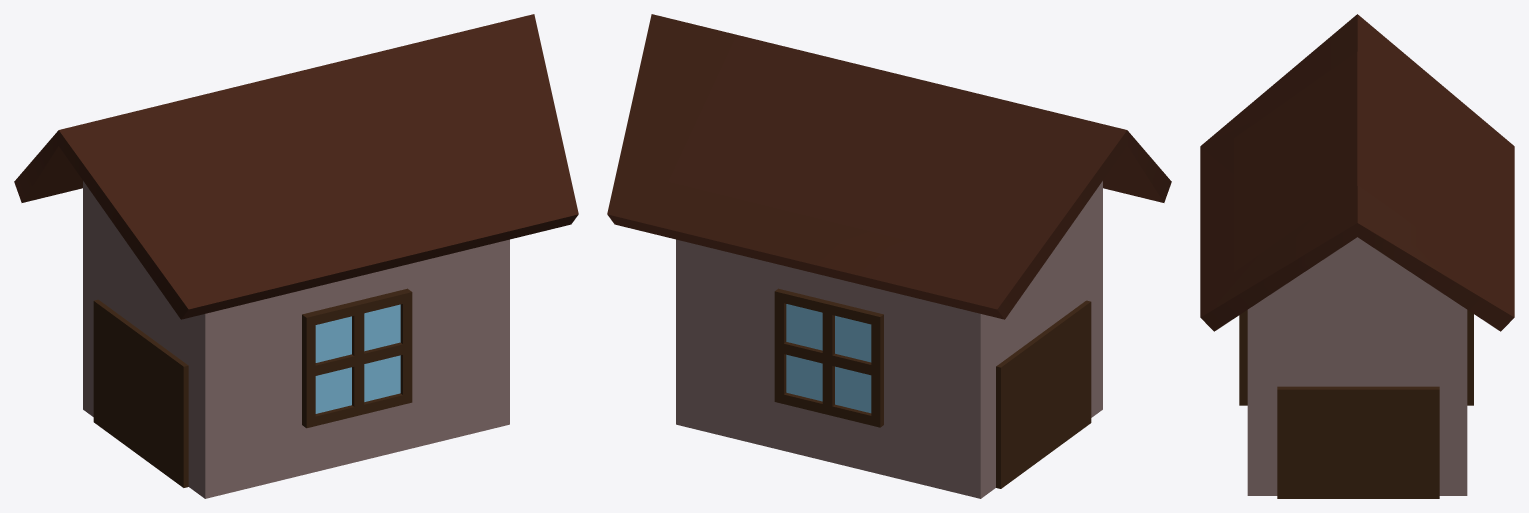
File: House_GarageSmall.fbx
The picture shows the model from 3 angles, left to right: view 1: azimuth 30°, elevation 25°; view 2: azimuth 150°, elevation 25°; view 3: azimuth 270°, elevation 25°; orthographic projection. The views are drawn at different scales.
Parts seen in each view (by area): view 1: House_GarageSmall; view 2: House_GarageSmall; view 3: House_GarageSmall.
Part boxes in pixels (left/top/right/bottom): House_GarageSmall: left=14, top=14, right=578, bottom=498; House_GarageSmall: left=607, top=14, right=1171, bottom=498; House_GarageSmall: left=1200, top=14, right=1514, bottom=498.
Size of the model in its own units: 32.5 by 22.54 by 20.65.
